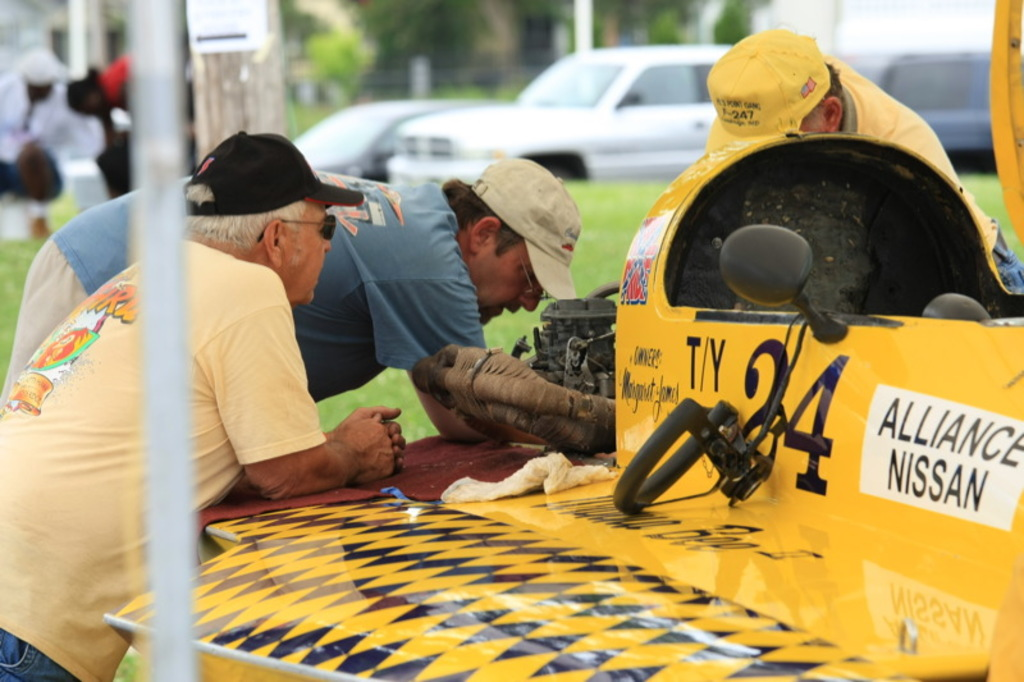Car: (106, 0, 1022, 680), (384, 40, 732, 189), (848, 46, 998, 174), (294, 101, 500, 182)
